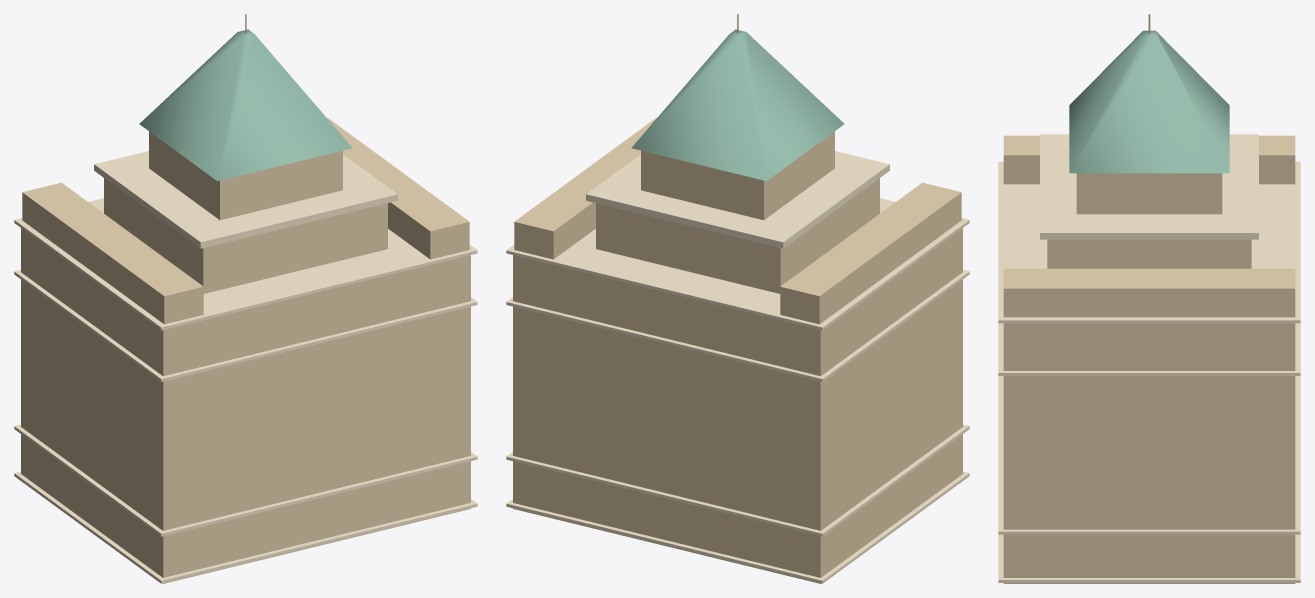
The model's file is peace-lod2.glb.
3 renders of one model, left to right at view 1: azimuth 30°, elevation 25°; view 2: azimuth 150°, elevation 25°; view 3: azimuth 270°, elevation 25°, orthographic. The views are drawn at different scales.
Visible parts, largest first — view 1: peace_architecture; view 2: peace_architecture; view 3: peace_architecture.
Part boxes in pixels (x1,y1,x2,y2): peace_architecture: (14,14,477,583); peace_architecture: (506,14,969,583); peace_architecture: (998,14,1300,583).
Bounding box in the file's own units: 25.7 × 37.25 × 20.7.
